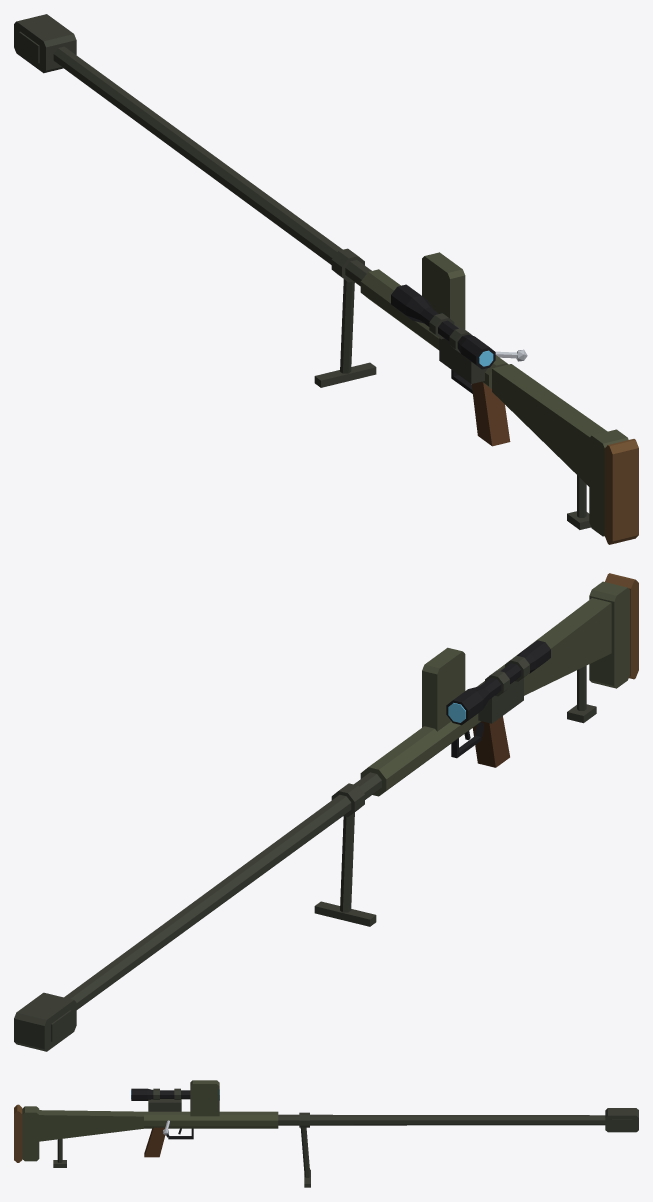
Rendered from Titan.obj.
The picture shows the model from 3 angles, top to bottom: view 1: azimuth 30°, elevation 25°; view 2: azimuth 150°, elevation 25°; view 3: azimuth 270°, elevation 25°; orthographic projection. The views are drawn at different scales.
Visible parts, largest first — view 1: Stock, Barrel, Pad, Bipod, Muzzle, Magazine, Scope, Body, Grip, Mount; view 2: Stock, Barrel, Bipod, Body, Muzzle, Magazine, Scope, Mount, Grip, Pad; view 3: Stock, Barrel, Body, Magazine, Muzzle, Bipod, Mount, Scope, Pad, Grip.
Boxes of the visible parts, bbox=[...] form: Stock: bbox=[492, 364, 628, 536]; Barrel: bbox=[53, 46, 371, 286]; Pad: bbox=[604, 439, 638, 544]; Bipod: bbox=[314, 248, 590, 529]; Muzzle: bbox=[14, 14, 76, 73]; Magazine: bbox=[422, 252, 465, 329]; Scope: bbox=[391, 284, 495, 369]; Body: bbox=[360, 269, 508, 388]; Grip: bbox=[471, 381, 510, 446]; Mount: bbox=[429, 313, 487, 383]; Stock: bbox=[497, 581, 630, 695]; Barrel: bbox=[64, 772, 381, 1009]; Bipod: bbox=[314, 665, 596, 926]; Body: bbox=[360, 713, 481, 796]; Muzzle: bbox=[14, 992, 76, 1051]; Magazine: bbox=[422, 647, 465, 731]; Scope: bbox=[446, 640, 550, 725]; Mount: bbox=[477, 656, 529, 723]; Grip: bbox=[472, 716, 509, 767]; Pad: bbox=[605, 573, 638, 679]; Stock: bbox=[22, 1106, 143, 1161]; Barrel: bbox=[278, 1114, 605, 1125]; Body: bbox=[144, 1111, 278, 1128]; Magazine: bbox=[190, 1080, 219, 1116]; Muzzle: bbox=[605, 1108, 638, 1132]; Bipod: bbox=[53, 1112, 310, 1187]; Mount: bbox=[148, 1088, 181, 1111]; Scope: bbox=[131, 1088, 190, 1100]; Pad: bbox=[14, 1104, 22, 1162]; Grip: bbox=[144, 1127, 165, 1157].
Size of the model in its own units: 0.6042 by 1.3 by 7.45.
